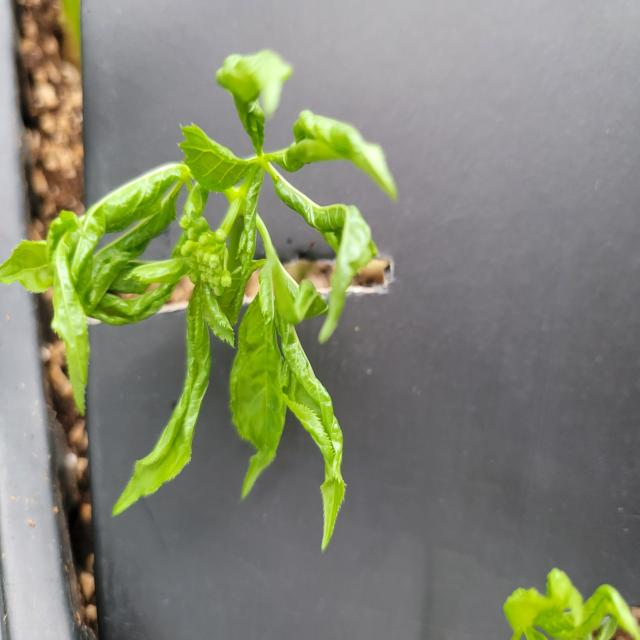plant: (13, 44, 396, 557)
